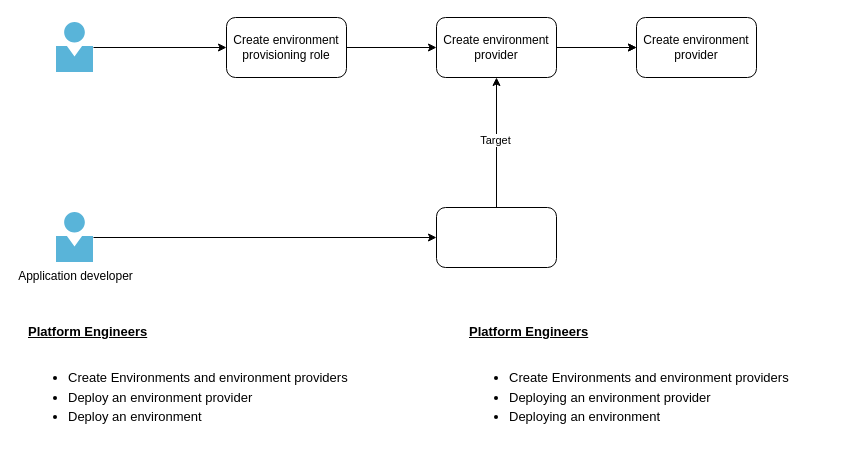
Image size: 844x473. Some labels were removed from this diagram. The box of each missing label's shape, as (x1, y1, x2, y2) in pixels:
Create application: (436, 206, 556, 268)
Platform engineer: (56, 22, 93, 72)
